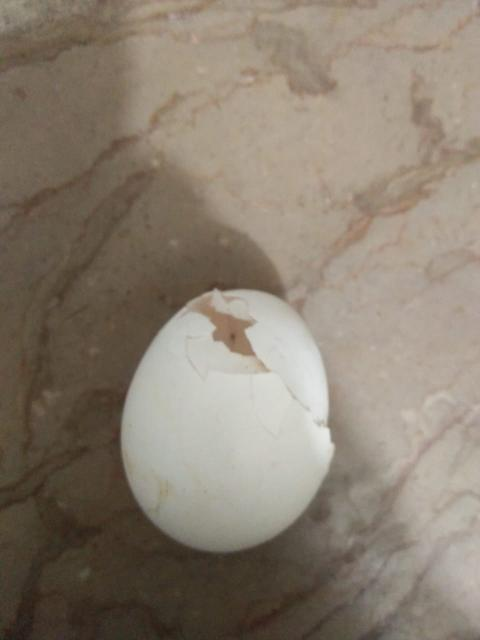Roto: (118, 286, 336, 554)
